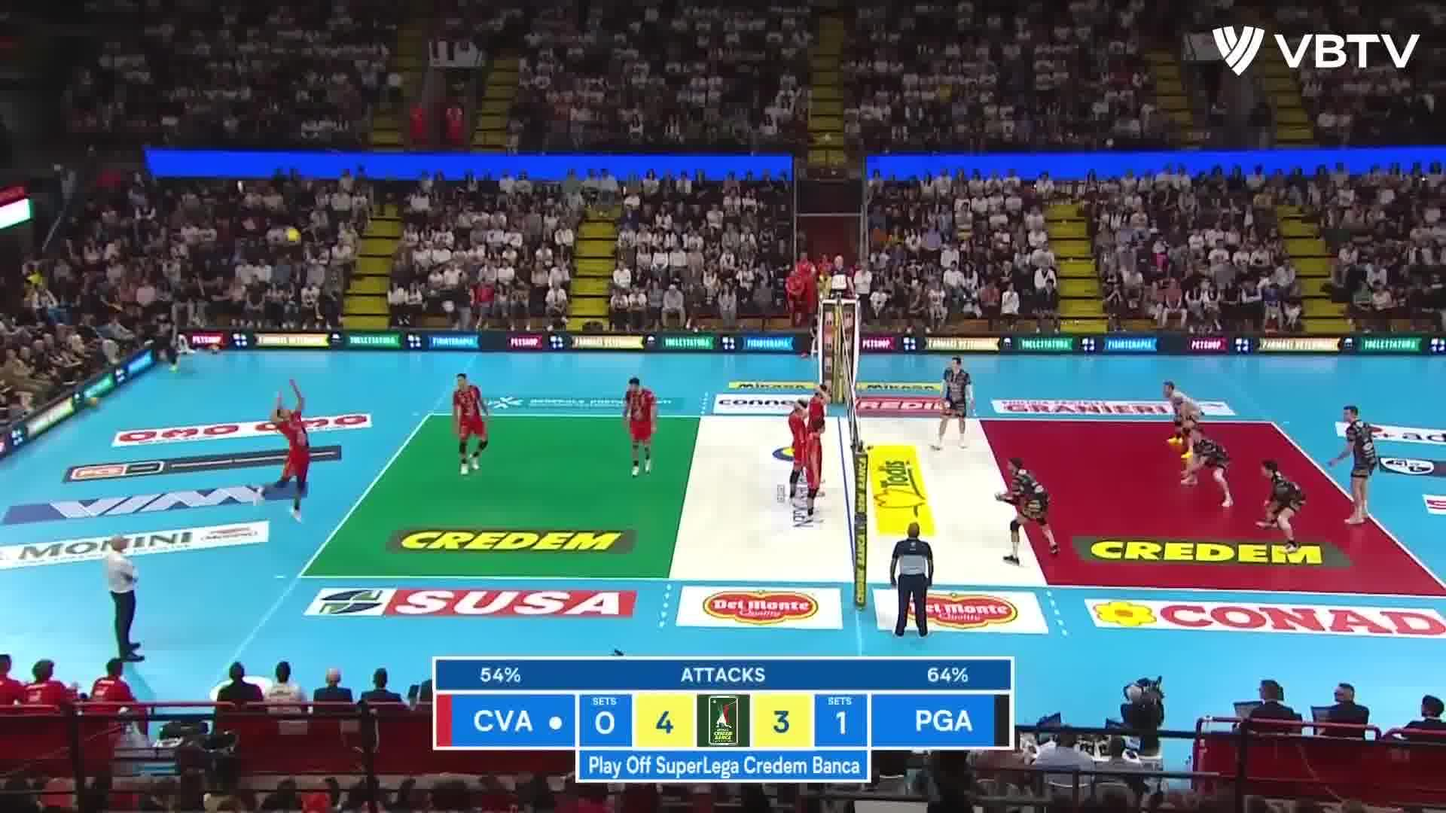balls: (281, 225, 304, 250)
